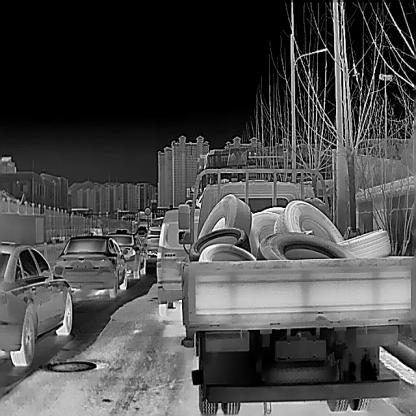car: (0, 238, 73, 367), (154, 205, 204, 317), (49, 229, 128, 298), (104, 230, 146, 279), (141, 224, 163, 258)
truck: (177, 159, 416, 415)
